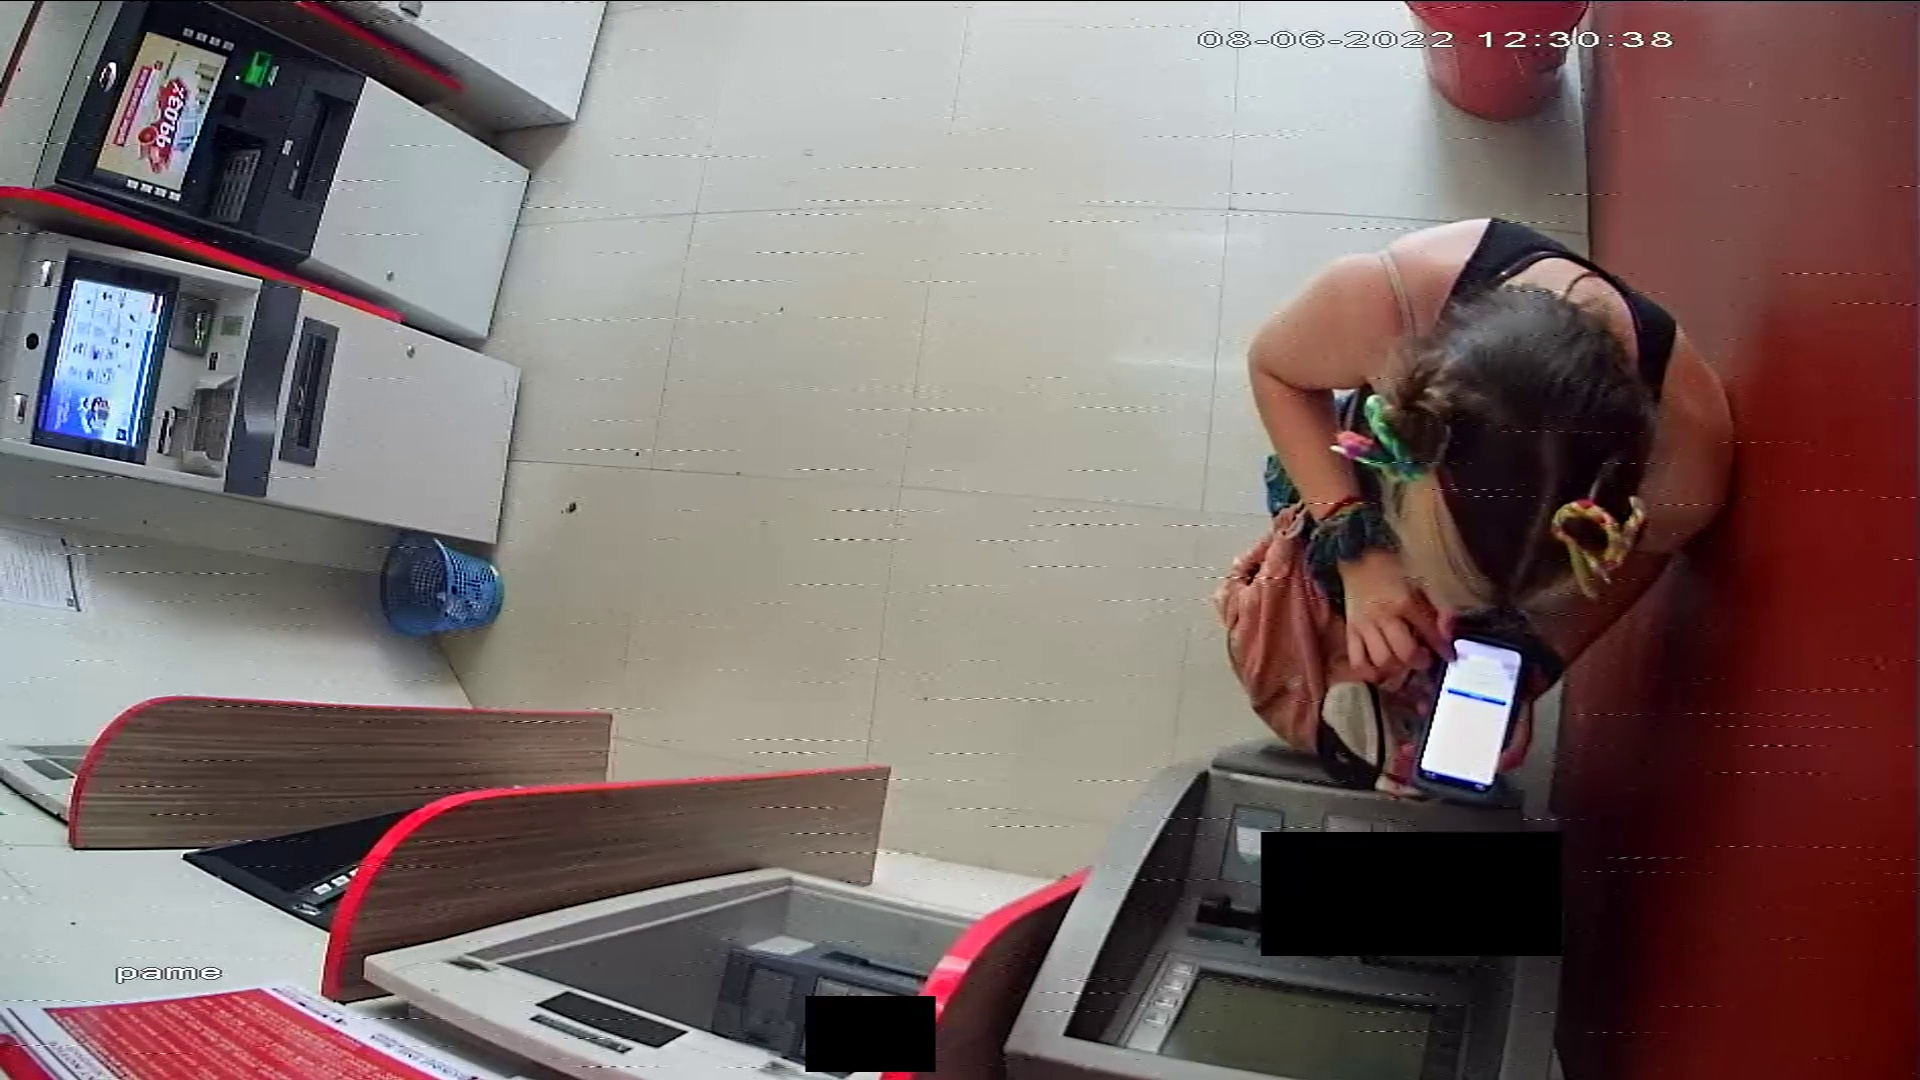person: (1246, 218, 1735, 771)
phone: (1417, 637, 1524, 792)
